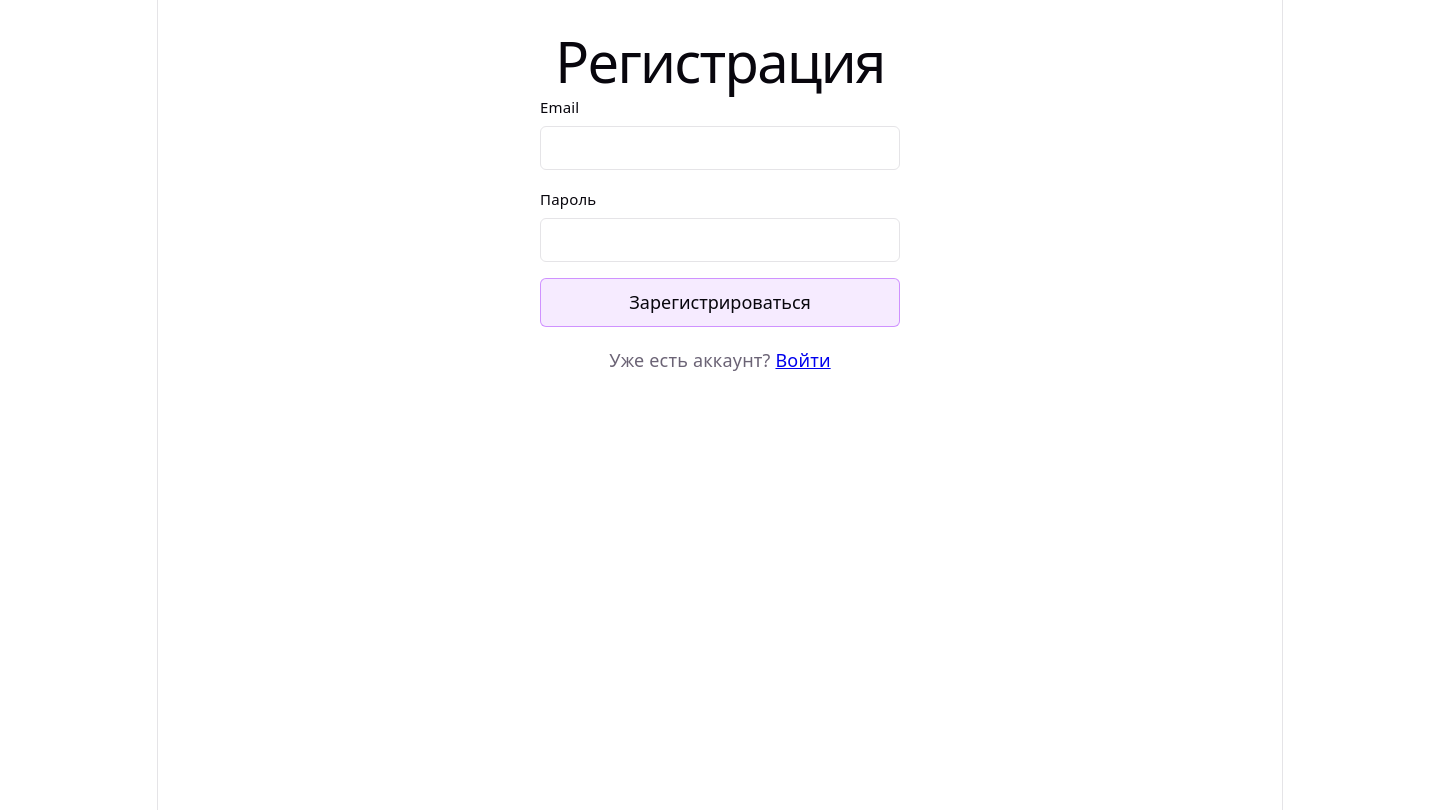
Test: RegisterPage › показывает сообщение gateway при 400
Type "user@example.com" into the field labelled "Email" at point(720, 148), box 540,126 -> 900,170
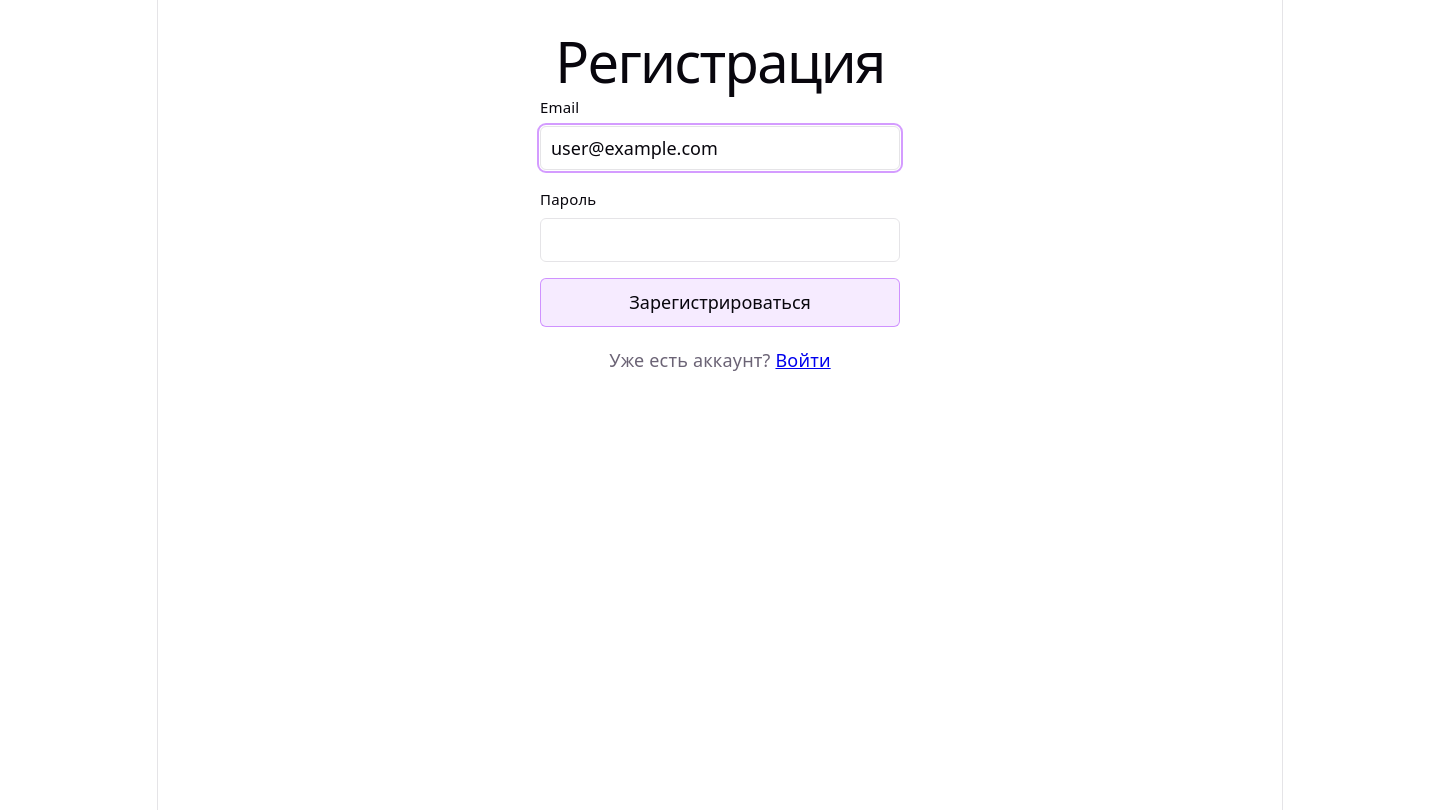
Type "secret123" into the password field labelled "Пароль" at point(720, 240), box 540,218 -> 900,262
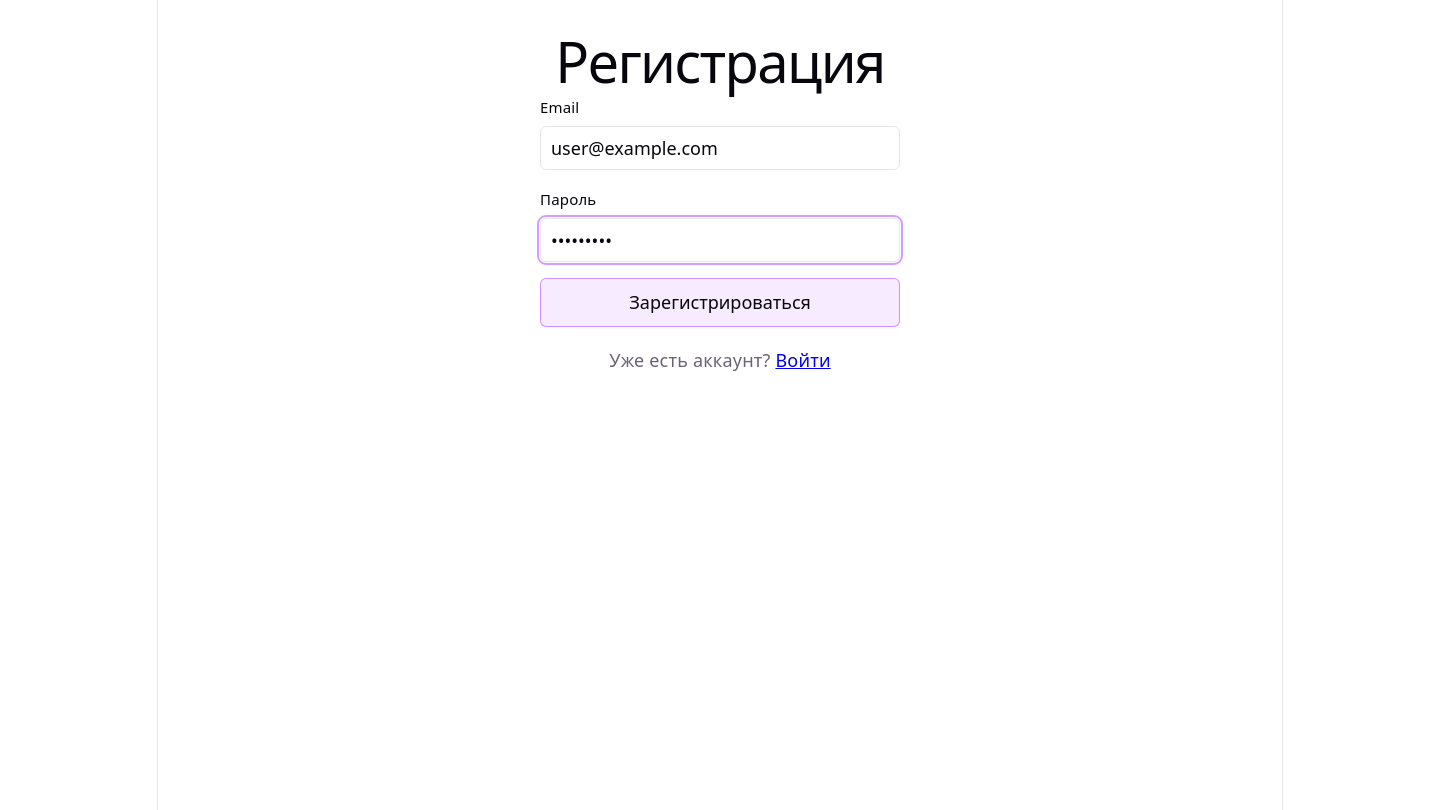
Click the button "Зарегистрироваться" at point(720, 303), box 540,278 -> 900,327
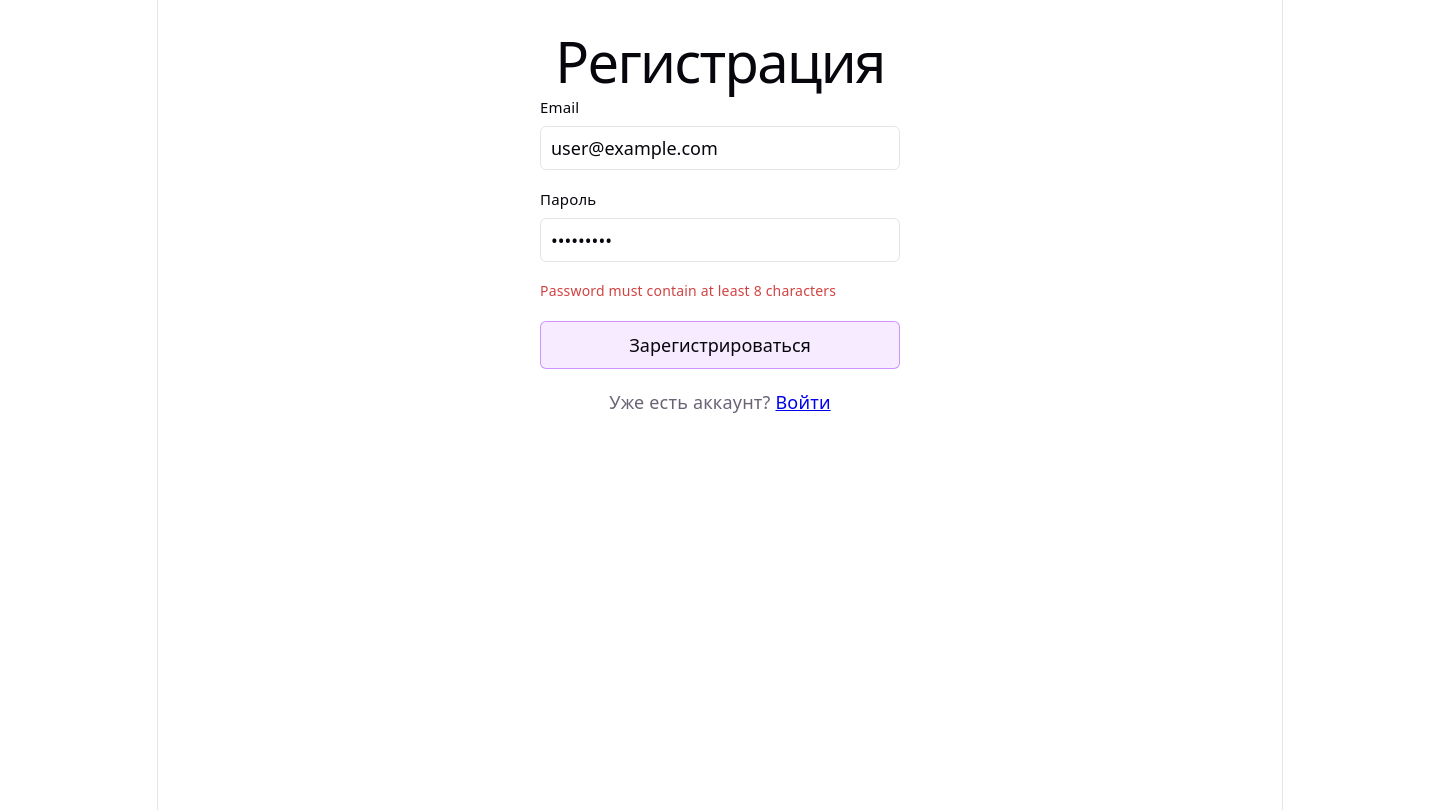
Check: the message reads "Password must contain at least 8 characters", box 540,282 -> 836,300
